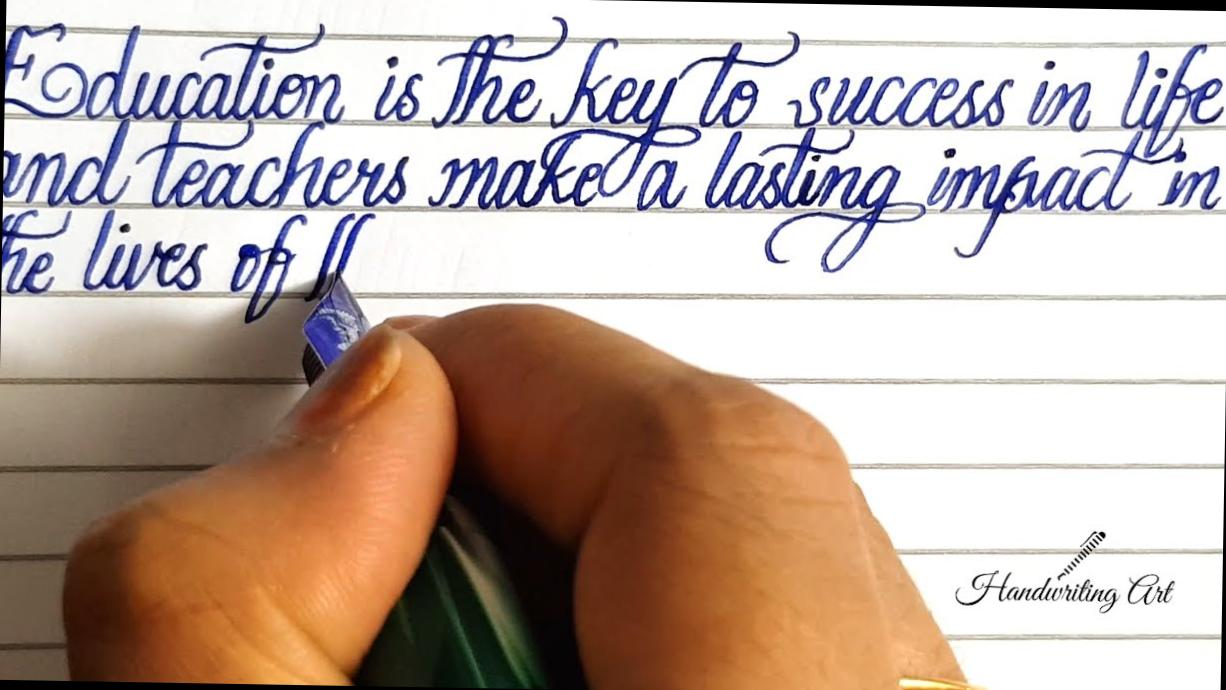text: (2, 110, 1226, 283), (3, 4, 1226, 167), (1, 206, 378, 330), (950, 522, 1178, 615)
